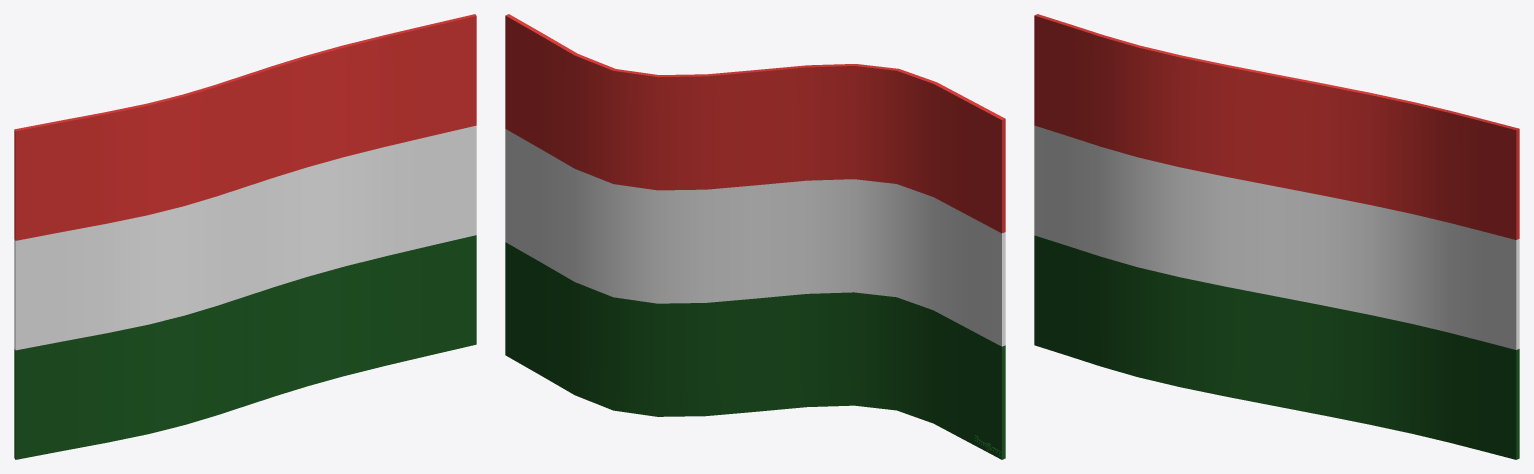
Rendered from flag_hungary.fbx.
The picture shows the model from 3 angles, left to right: view 1: azimuth 30°, elevation 25°; view 2: azimuth 150°, elevation 25°; view 3: azimuth 330°, elevation 25°; orthographic projection. The views are drawn at different scales.
Visible parts, largest first — view 1: Plane.450; view 2: Plane.450; view 3: Plane.450.
Part boxes in pixels (bbox=[...]): Plane.450: bbox=[14, 14, 476, 459]; Plane.450: bbox=[505, 14, 1005, 459]; Plane.450: bbox=[1034, 14, 1519, 459].
Bounding box in the file's own units: 218 × 158 × 33.73.
1 material, 1 textured.
